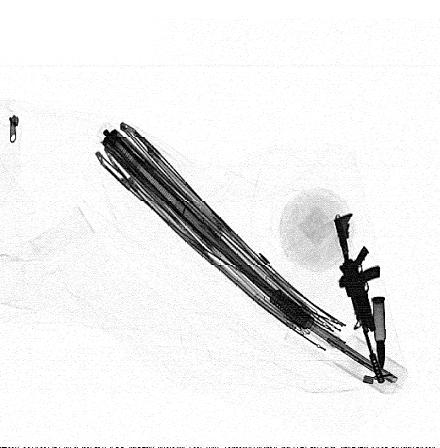Bullet: (371, 298, 386, 378)
Gun: (335, 211, 386, 386)
